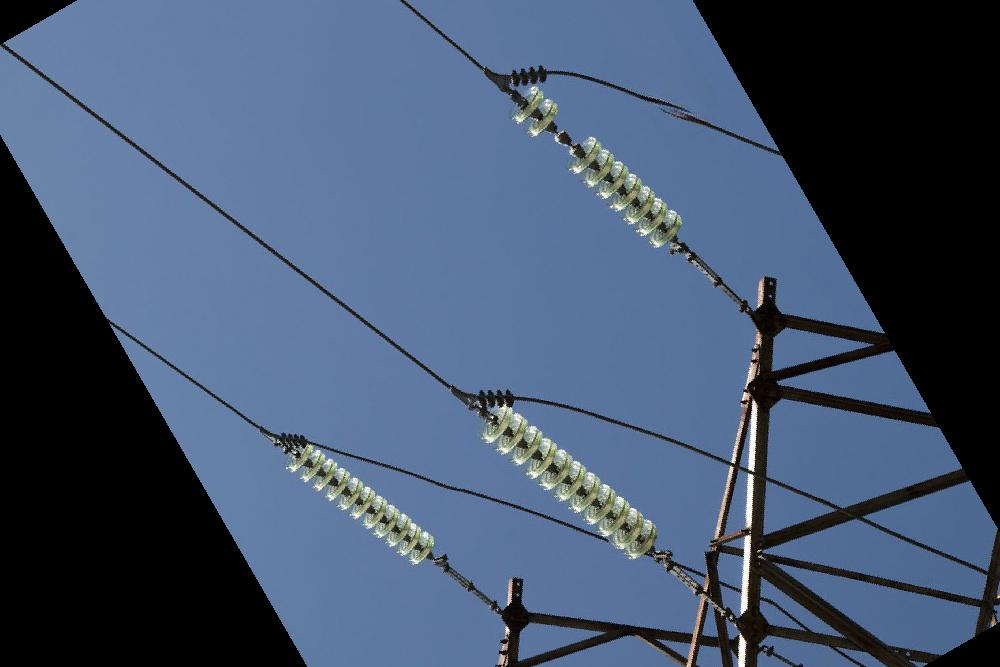insulator: (476, 399, 662, 567), (506, 85, 686, 253), (277, 440, 439, 573)
insulator_stringdrop: (522, 92, 605, 181)
